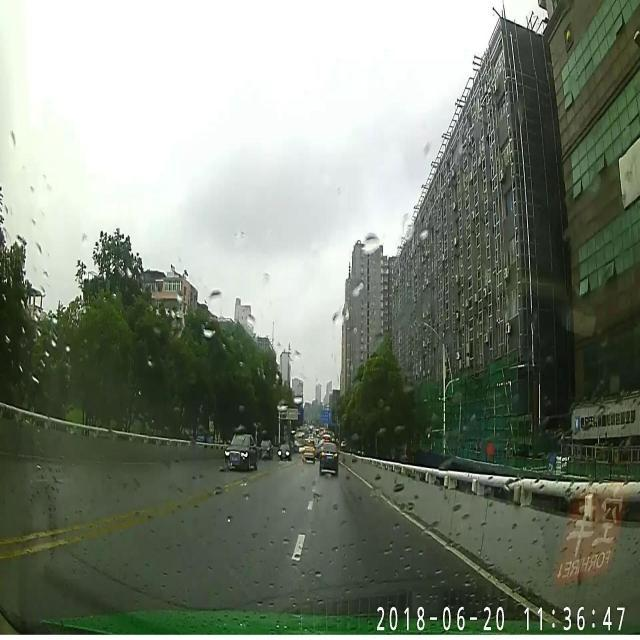car: (226, 434, 258, 466), (320, 440, 338, 475), (303, 440, 316, 462), (278, 442, 290, 458), (262, 442, 272, 457)
